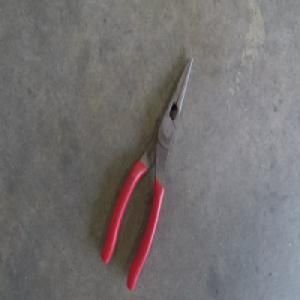Pliers: (101, 54, 191, 286)
